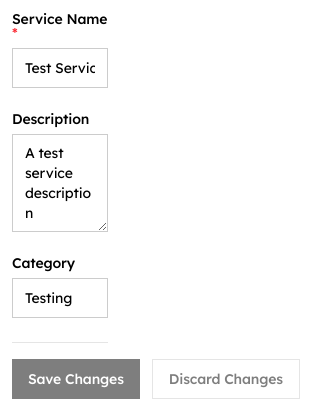
ServiceMetadataForm › Loading State › shows loading state during submission
The image size is (332, 416).
Replace the text in the field labelled "Service Name *" with "New Name": (60, 68) [12,48,108,88]
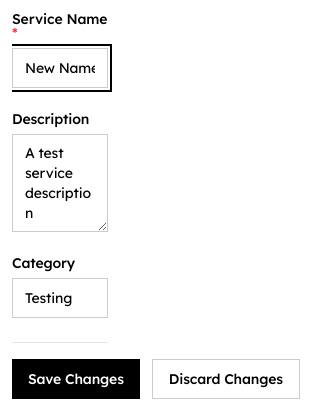
Click the button "Save Changes": (76, 379) [12,359,140,399]
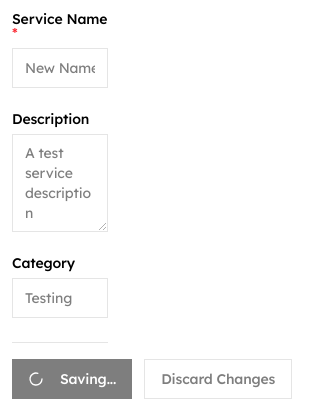
Expected: the button "Saving..." is shown, [12,359,132,399]
